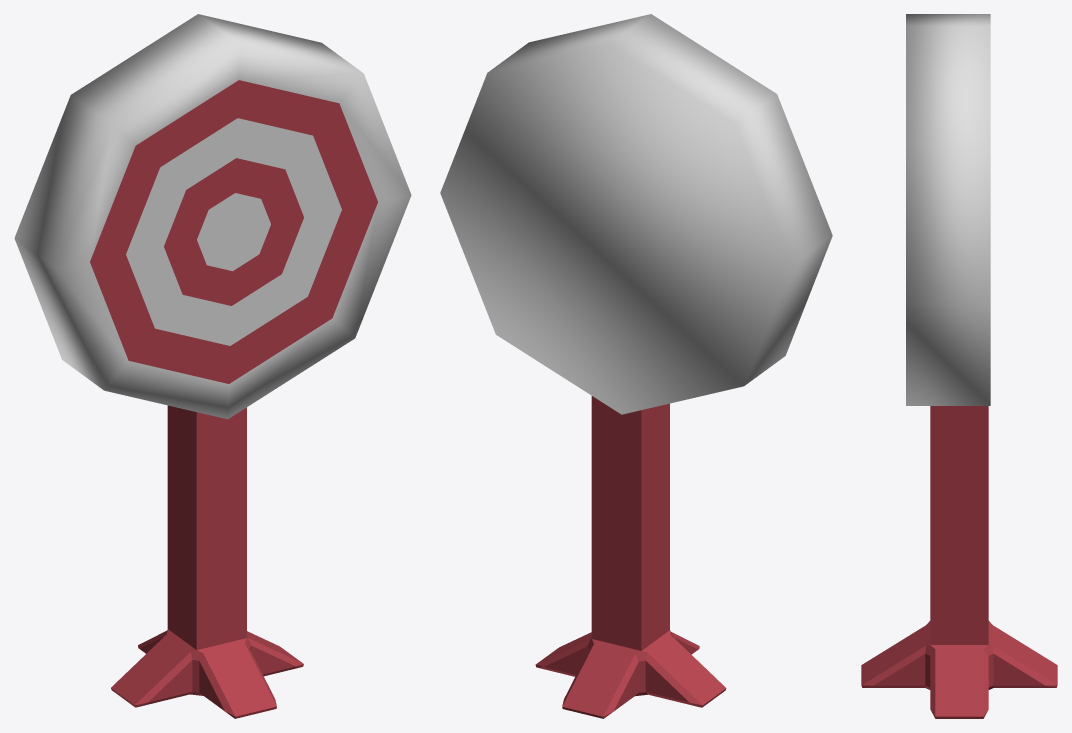
Rendered from RedTarget.fbx.
3 views of the same model, side by side, from view 1: azimuth 30°, elevation 25°; view 2: azimuth 150°, elevation 25°; view 3: azimuth 270°, elevation 25° (orthographic).
Parts seen in each view (by area): view 1: Cube; view 2: Cube; view 3: Cube.
Part boxes in pixels (x1=…): Cube: x1=14, y1=14, x2=411, y2=718; Cube: x1=440, y1=14, x2=832, y2=718; Cube: x1=861, y1=14, x2=1057, y2=718.
Size of the model in its own units: 436 by 765 by 208.
